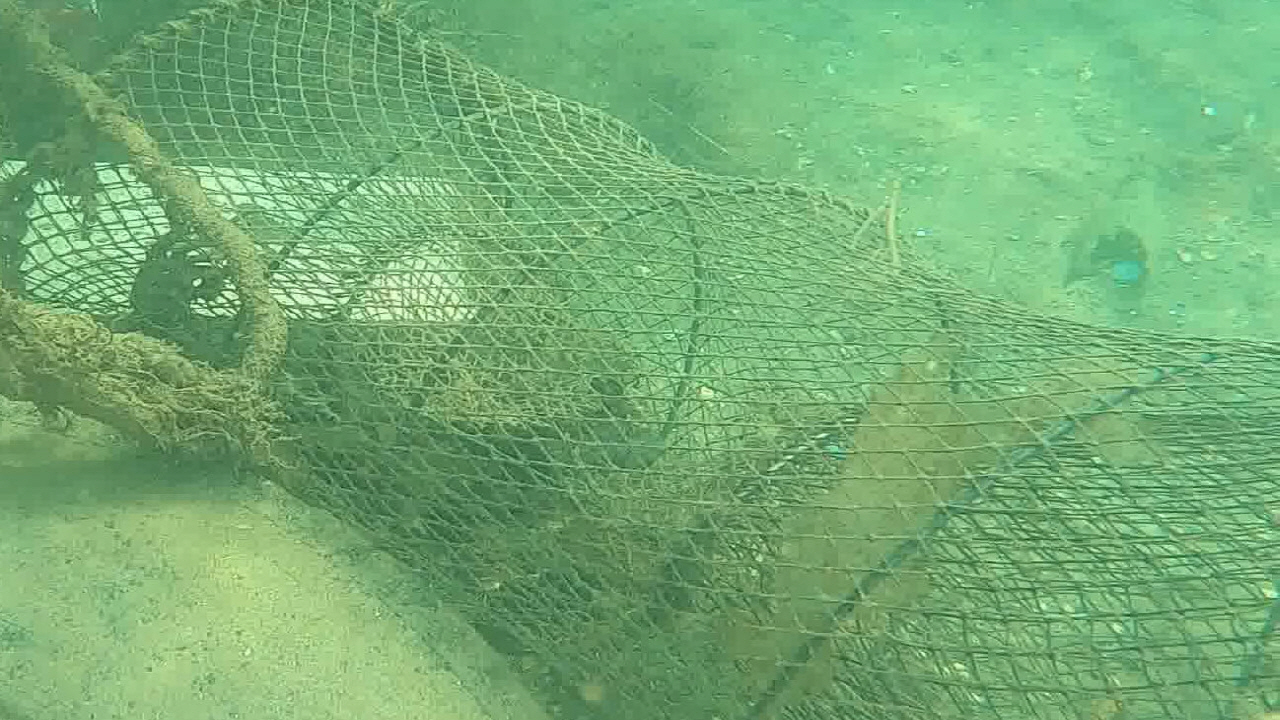spring fish trap: (0, 1, 1280, 720)
